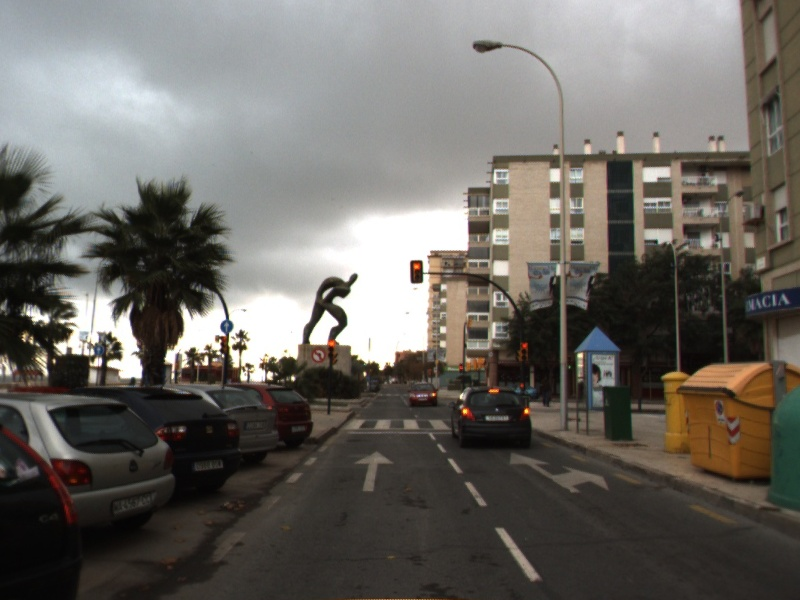STRAIGHT: (353, 449, 396, 493)
STRAIGHT_RIGHT: (508, 450, 610, 494)
